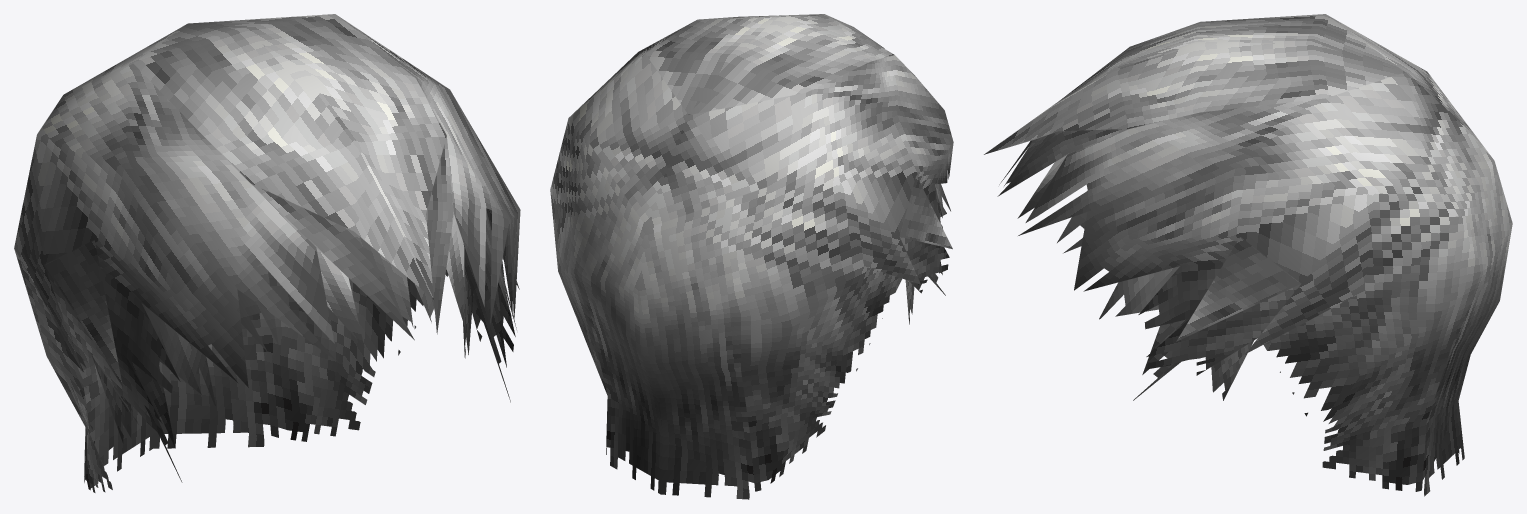
Rendered from f_head012.glb.
The picture shows the model from 3 angles, left to right: view 1: azimuth 30°, elevation 25°; view 2: azimuth 150°, elevation 25°; view 3: azimuth 270°, elevation 25°; orthographic projection. The views are drawn at different scales.
Size of the model in its own units: 18.57 by 21.17 by 24.33.
1 material, 1 textured.
